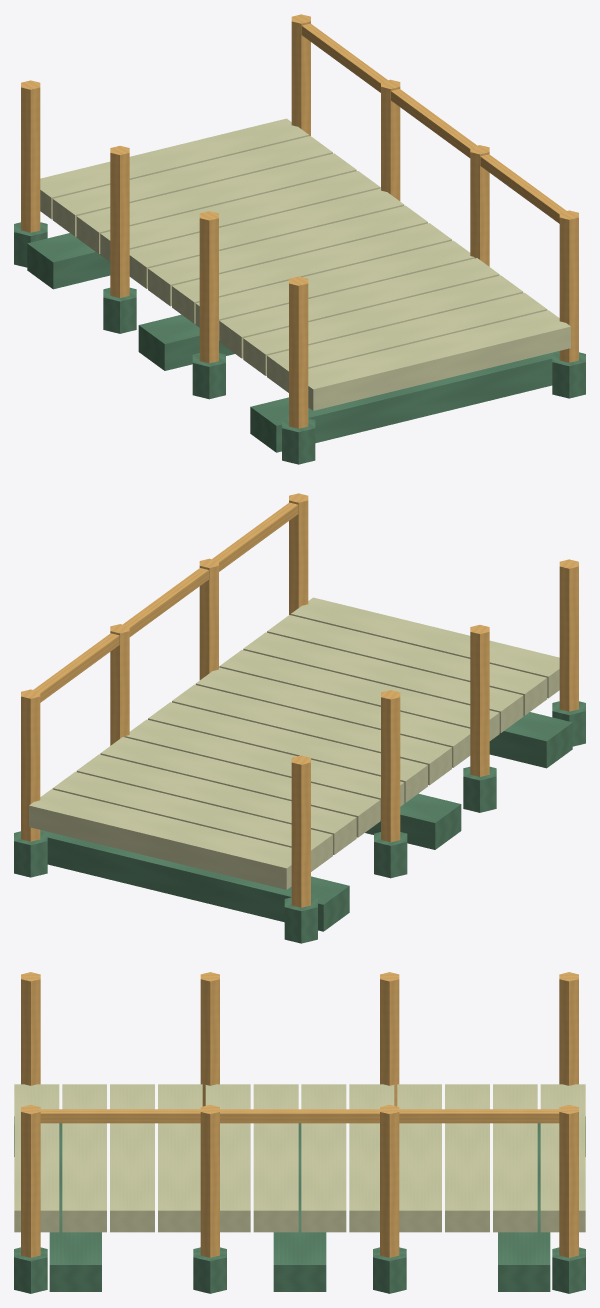
The model's file is atlas100-s004-a02.lod1.glb.
The picture shows the model from 3 angles, top to bottom: view 1: azimuth 30°, elevation 25°; view 2: azimuth 150°, elevation 25°; view 3: azimuth 270°, elevation 25°; orthographic projection.
Parts seen in each view (by area): view 1: atlas100-s004-a02:part-011, atlas100-s004-a02:part-032, atlas100-s004-a02:part-002, atlas100-s004-a02:part-001, atlas100-s004-a02:part-008, atlas100-s004-a02:part-009, atlas100-s004-a02:part-005, atlas100-s004-a02:part-006, atlas100-s004-a02:part-010, atlas100-s004-a02:part-004, atlas100-s004-a02:part-000, atlas100-s004-a02:part-003 (+17 smaller); view 2: atlas100-s004-a02:part-000, atlas100-s004-a02:part-030, atlas100-s004-a02:part-009, atlas100-s004-a02:part-010, atlas100-s004-a02:part-003, atlas100-s004-a02:part-002, atlas100-s004-a02:part-006, atlas100-s004-a02:part-005, atlas100-s004-a02:part-001, atlas100-s004-a02:part-007, atlas100-s004-a02:part-011, atlas100-s004-a02:part-008 (+17 smaller); view 3: atlas100-s004-a02:part-029, atlas100-s004-a02:part-005, atlas100-s004-a02:part-006, atlas100-s004-a02:part-001, atlas100-s004-a02:part-002, atlas100-s004-a02:part-009, atlas100-s004-a02:part-010, atlas100-s004-a02:part-003, atlas100-s004-a02:part-008, atlas100-s004-a02:part-004, atlas100-s004-a02:part-007, atlas100-s004-a02:part-000 (+16 smaller).
Part boxes in pixels (x1=…): atlas100-s004-a02:part-011: x1=308, y1=310, x2=570, y2=410; atlas100-s004-a02:part-032: x1=250, y1=351, x2=559, y2=452; atlas100-s004-a02:part-002: x1=76, y1=153, x2=356, y2=253; atlas100-s004-a02:part-001: x1=52, y1=136, x2=332, y2=236; atlas100-s004-a02:part-008: x1=219, y1=258, x2=499, y2=358; atlas100-s004-a02:part-009: x1=243, y1=275, x2=523, y2=375; atlas100-s004-a02:part-005: x1=148, y1=205, x2=427, y2=306; atlas100-s004-a02:part-006: x1=172, y1=223, x2=451, y2=323; atlas100-s004-a02:part-010: x1=267, y1=293, x2=547, y2=392; atlas100-s004-a02:part-004: x1=129, y1=188, x2=404, y2=288; atlas100-s004-a02:part-000: x1=40, y1=118, x2=308, y2=219; atlas100-s004-a02:part-003: x1=100, y1=171, x2=380, y2=261; atlas100-s004-a02:part-000: x1=29, y1=789, x2=291, y2=889; atlas100-s004-a02:part-030: x1=40, y1=830, x2=349, y2=931; atlas100-s004-a02:part-009: x1=243, y1=632, x2=523, y2=732; atlas100-s004-a02:part-010: x1=267, y1=615, x2=547, y2=715; atlas100-s004-a02:part-003: x1=100, y1=737, x2=380, y2=837; atlas100-s004-a02:part-002: x1=76, y1=754, x2=356, y2=854; atlas100-s004-a02:part-006: x1=172, y1=684, x2=451, y2=785; atlas100-s004-a02:part-005: x1=148, y1=702, x2=427, y2=802; atlas100-s004-a02:part-001: x1=52, y1=772, x2=332, y2=871; atlas100-s004-a02:part-007: x1=195, y1=667, x2=470, y2=767; atlas100-s004-a02:part-011: x1=291, y1=597, x2=559, y2=698; atlas100-s004-a02:part-008: x1=219, y1=650, x2=499, y2=740; atlas100-s004-a02:part-029: x1=40, y1=1109, x2=559, y2=1123; atlas100-s004-a02:part-005: x1=301, y1=1084, x2=346, y2=1232; atlas100-s004-a02:part-006: x1=253, y1=1084, x2=298, y2=1232; atlas100-s004-a02:part-001: x1=493, y1=1084, x2=537, y2=1232; atlas100-s004-a02:part-002: x1=445, y1=1084, x2=489, y2=1232; atlas100-s004-a02:part-009: x1=110, y1=1084, x2=154, y2=1232; atlas100-s004-a02:part-010: x1=62, y1=1084, x2=106, y2=1232; atlas100-s004-a02:part-003: x1=397, y1=1084, x2=441, y2=1232; atlas100-s004-a02:part-008: x1=158, y1=1084, x2=202, y2=1232; atlas100-s004-a02:part-004: x1=349, y1=1084, x2=394, y2=1232; atlas100-s004-a02:part-007: x1=205, y1=1084, x2=250, y2=1232; atlas100-s004-a02:part-000: x1=540, y1=1084, x2=585, y2=1232.
Bounding box in the file's own units: 2.36 × 1.3 × 3.83.
3 materials, 3 textured.
